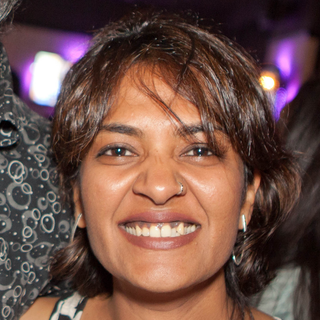eye: (178, 140, 222, 165), (97, 140, 141, 164)
